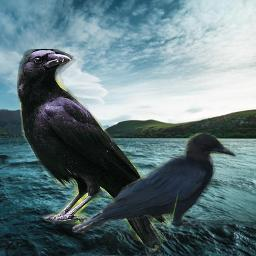Crow: (17, 49, 174, 251), (72, 132, 236, 248)
